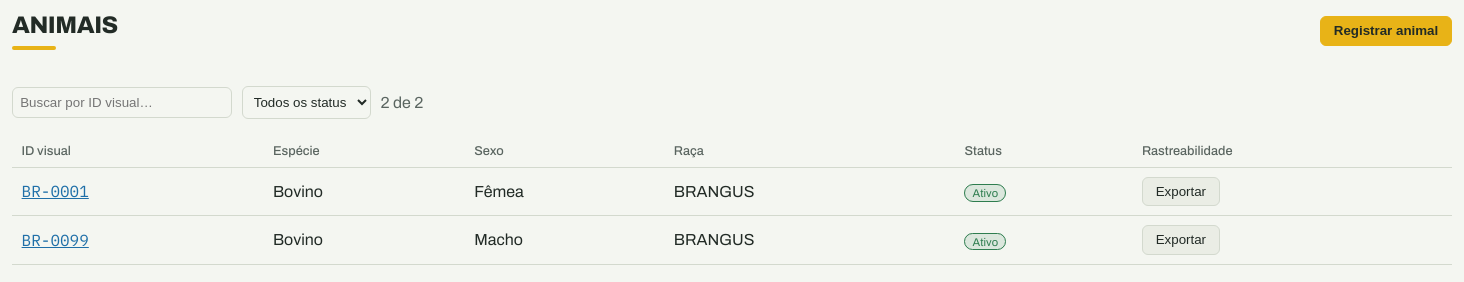
Scenario: Animals page › filters the list by visual ID (client-side search)
Expected: the link "BR-0001" is shown, 22,182 -> 89,202
Type "0099" into the field with placeholder "Buscar por ID visual…" at x=122, y=102, box 12,87 -> 232,118
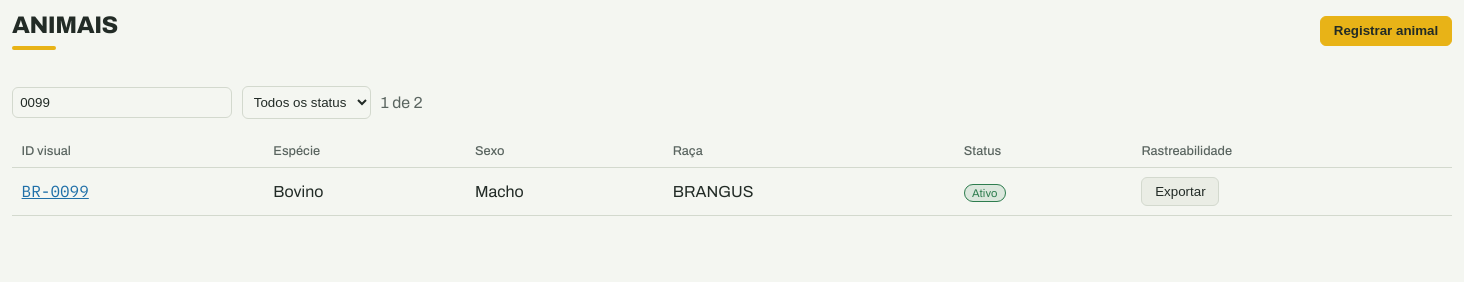
Expected: the link "BR-0099" is shown, 22,182 -> 89,202
Now the link "BR-0001" is gone
